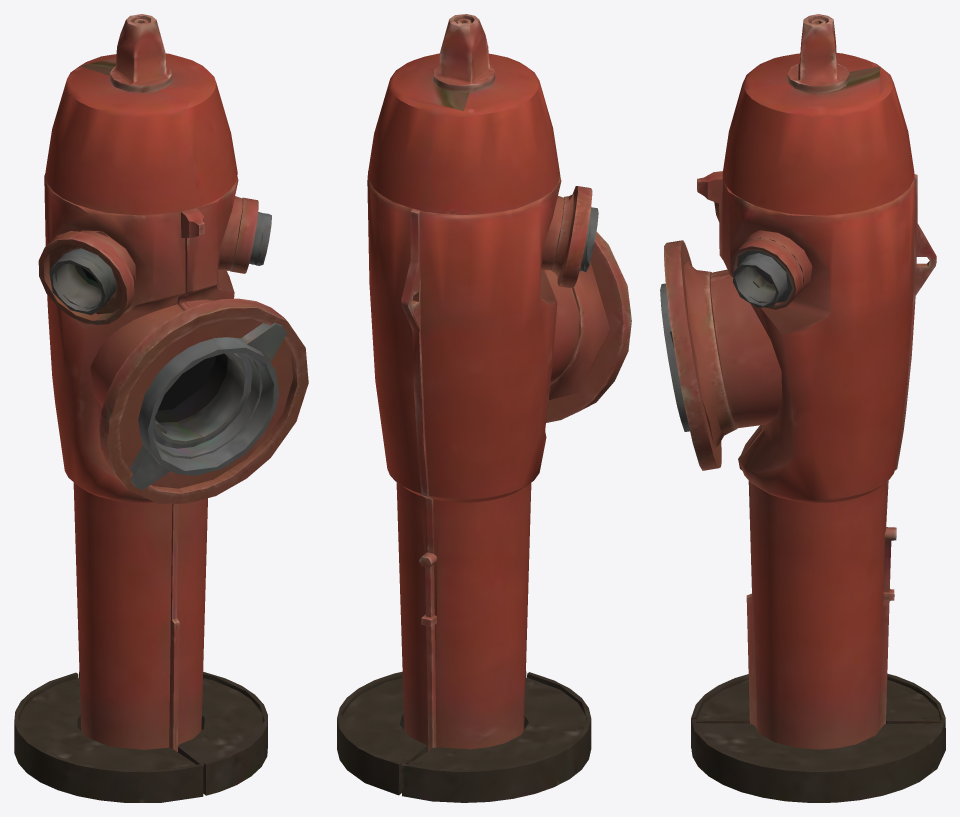
File: fire-hydrant.glb
The picture shows the model from 3 angles, left to right: view 1: azimuth 30°, elevation 25°; view 2: azimuth 150°, elevation 25°; view 3: azimuth 270°, elevation 25°; orthographic projection.
Parts seen in each view (by area): view 1: fire-hydrant; view 2: fire-hydrant; view 3: fire-hydrant.
Part boxes in pixels (x1,y1,x2,y2): fire-hydrant: [14, 14, 308, 802]; fire-hydrant: [337, 14, 631, 802]; fire-hydrant: [660, 14, 945, 802].
Bounding box in the file's own units: 0.254 × 0.7993 × 0.2839.
1 material, 1 textured.
